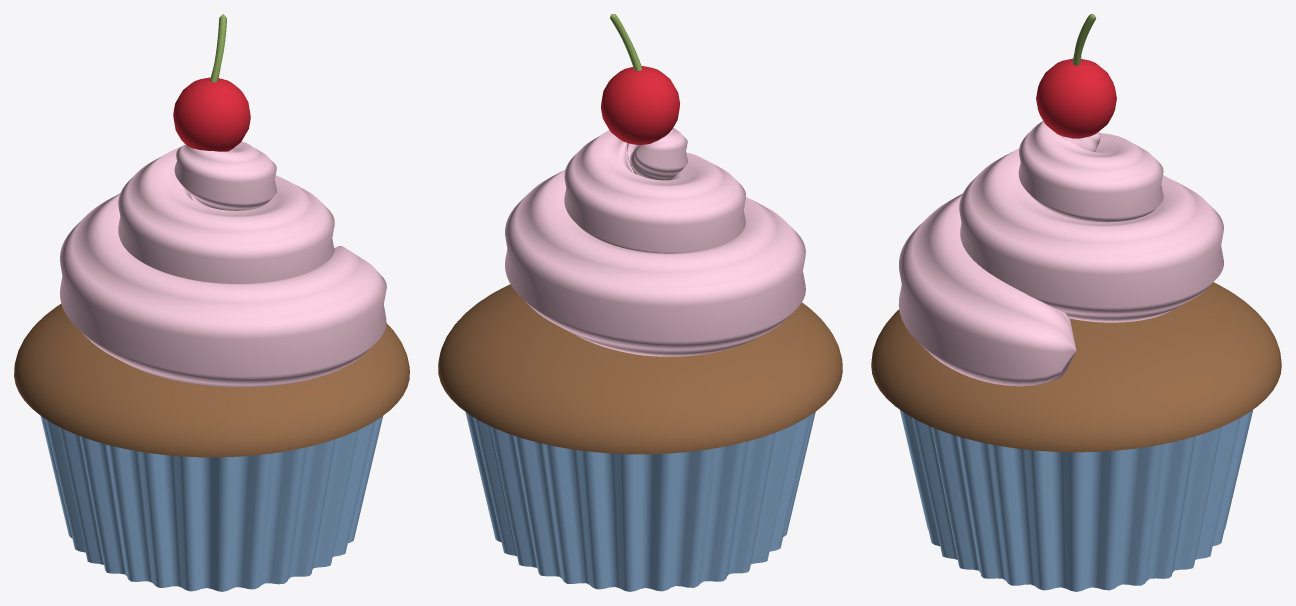
The model's file is cupcake.glb.
3 renders of one model, left to right at view 1: azimuth 30°, elevation 25°; view 2: azimuth 150°, elevation 25°; view 3: azimuth 270°, elevation 25°, orthographic. The views are drawn at different scales.
Parts seen in each view (by area): view 1: Frosting, Wrapper, Cake, Cherry; view 2: Frosting, Cake, Wrapper, Cherry; view 3: Frosting, Wrapper, Cake, Cherry.
Part boxes in pixels (bbox=[...]): Frosting: bbox=[60, 141, 386, 387]; Wrapper: bbox=[40, 416, 382, 591]; Cake: bbox=[14, 304, 409, 457]; Cherry: bbox=[173, 14, 250, 151]; Frosting: bbox=[505, 127, 805, 356]; Cake: bbox=[438, 284, 842, 454]; Wrapper: bbox=[465, 412, 815, 591]; Cherry: bbox=[601, 14, 679, 145]; Frosting: bbox=[898, 121, 1223, 386]; Wrapper: bbox=[900, 410, 1252, 591]; Cake: bbox=[871, 282, 1281, 452]; Cherry: bbox=[1036, 14, 1116, 138].
Bounding box in the file's own units: 0.069 × 0.098 × 0.069.
